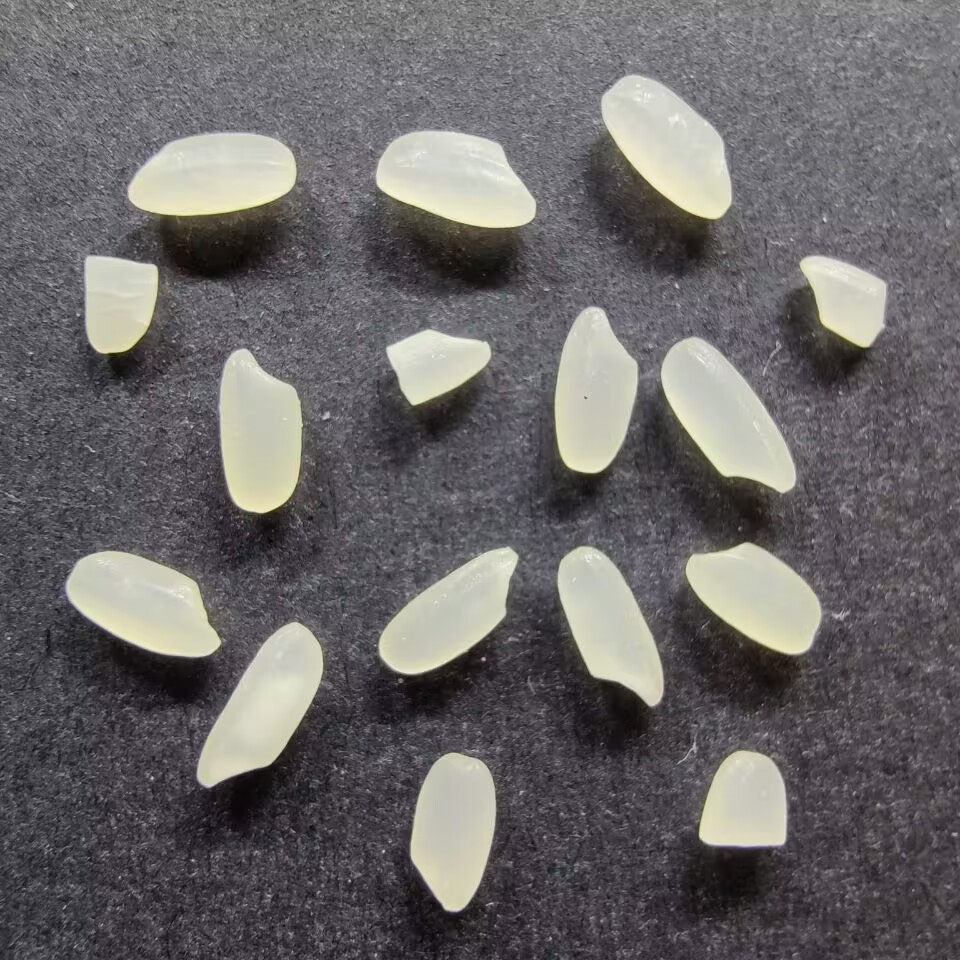broken: (694, 749, 789, 851), (798, 254, 890, 349), (385, 328, 493, 405), (80, 252, 158, 355)
rice: (192, 620, 325, 791), (657, 335, 800, 494), (599, 73, 734, 219), (555, 543, 667, 709), (377, 546, 520, 676), (64, 551, 223, 659), (373, 126, 536, 229), (682, 539, 824, 657), (552, 304, 640, 475), (406, 750, 497, 914), (123, 131, 297, 216), (217, 343, 301, 514)
